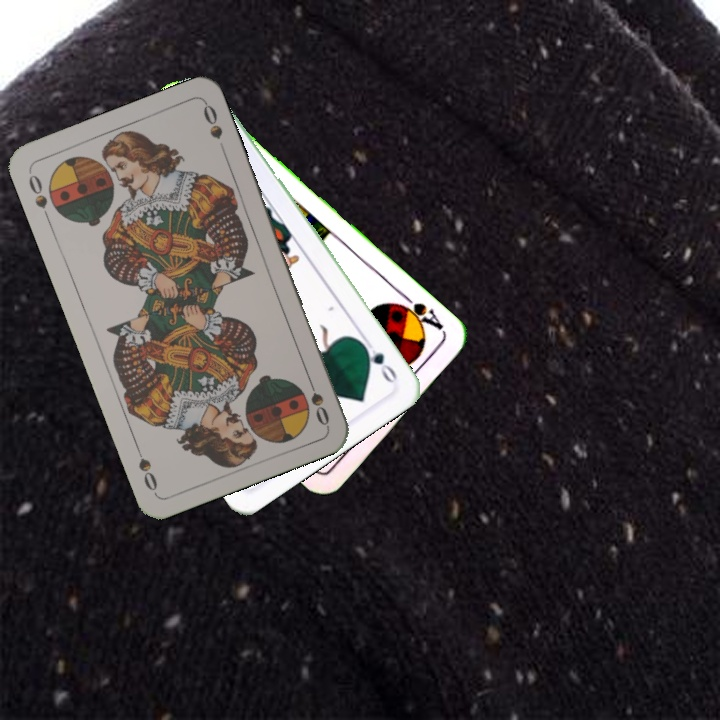GO: (356, 338, 400, 386)
SA: (390, 289, 447, 334)
SO: (302, 371, 332, 429), (24, 168, 53, 225)
